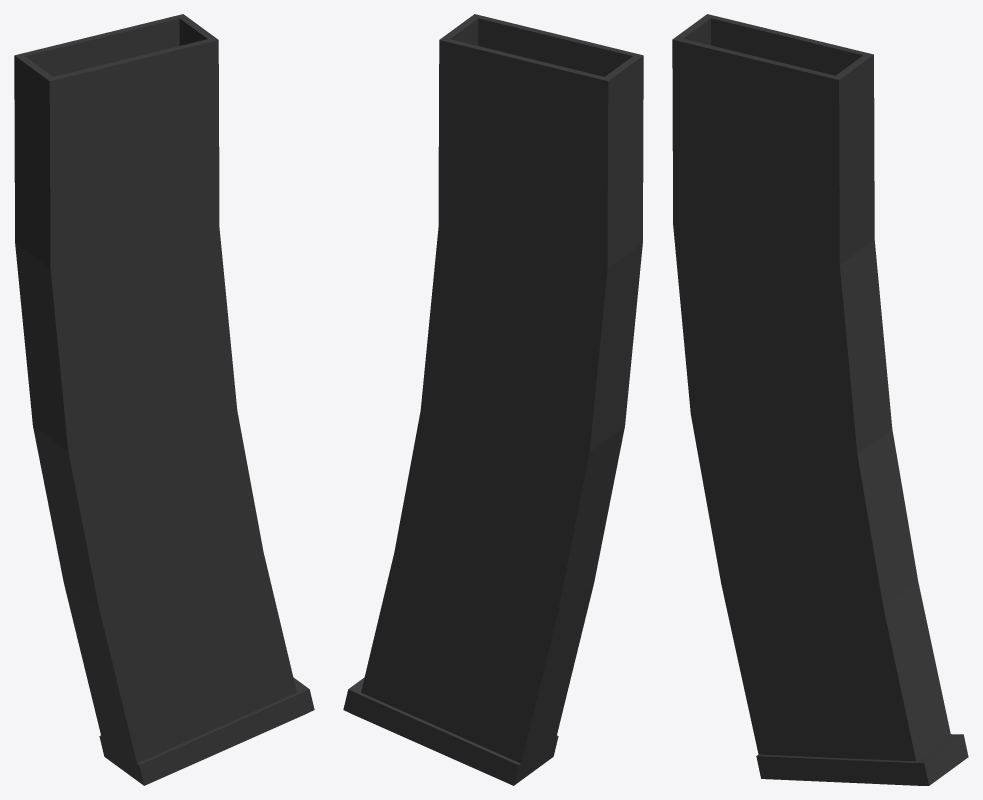
Rendered from SMG3_05_3.fbx.
The picture shows the model from 3 angles, left to right: view 1: azimuth 30°, elevation 25°; view 2: azimuth 150°, elevation 25°; view 3: azimuth 330°, elevation 25°; orthographic projection.
Parts seen in each view (by area): view 1: SMG3_05_3; view 2: SMG3_05_3; view 3: SMG3_05_3.
Part boxes in pixels (left/top/right/bottom): SMG3_05_3: left=14, top=14, right=314, bottom=785; SMG3_05_3: left=343, top=14, right=643, bottom=785; SMG3_05_3: left=672, top=14, right=968, bottom=785.
Bounding box in the file's own units: 0.0784 × 0.207 × 0.0206.
